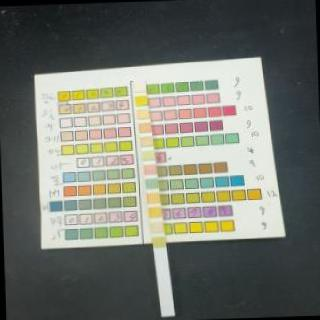mark: (146, 192, 160, 204), (138, 122, 151, 134), (153, 236, 166, 248), (144, 163, 156, 175), (148, 206, 161, 217), (134, 80, 144, 92), (135, 96, 147, 106), (136, 110, 148, 120), (140, 136, 152, 146), (142, 150, 154, 160), (145, 178, 157, 188), (150, 222, 162, 232)
